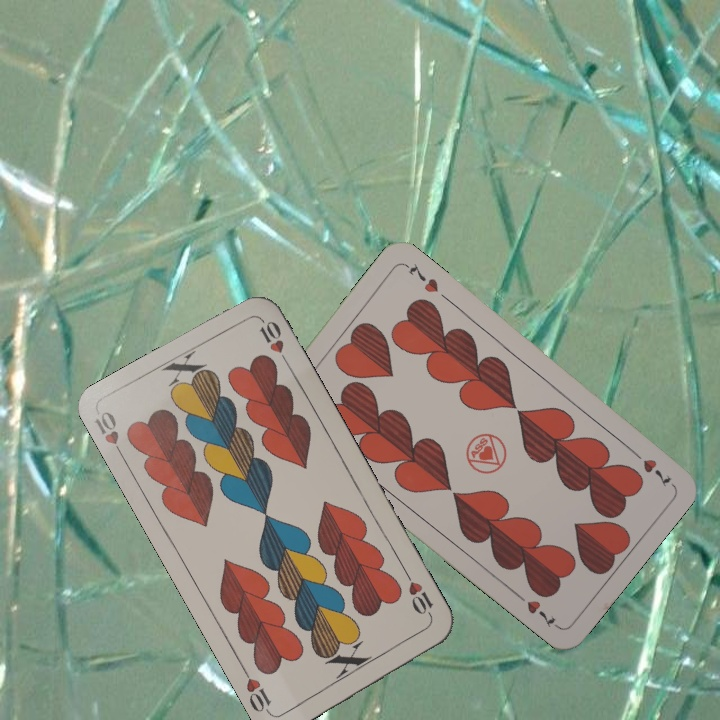H10: (90, 407, 128, 463), (401, 568, 436, 623)
H7: (626, 444, 674, 488)
